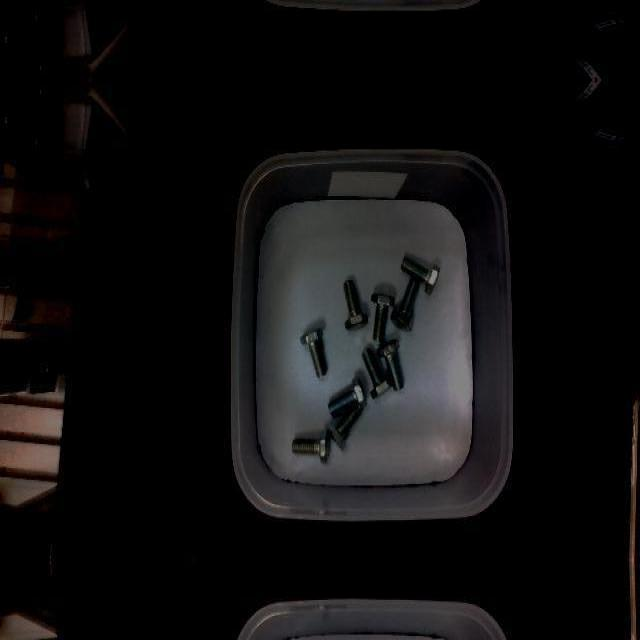screw: (361, 348, 393, 400), (327, 402, 363, 448), (389, 280, 419, 332), (400, 255, 440, 293), (328, 375, 367, 413), (377, 338, 404, 390), (300, 327, 327, 377), (343, 280, 368, 330), (291, 431, 330, 463), (370, 292, 394, 340)
